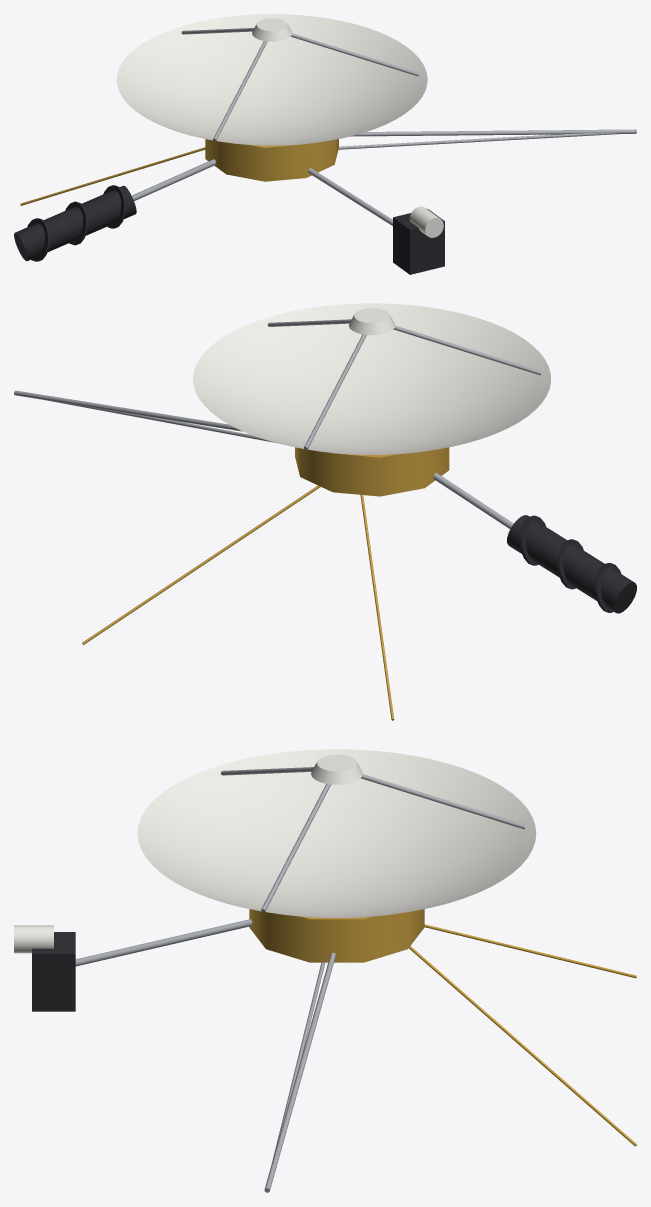
File: deep-space-probe.glb
3 renders of one model, top to bottom at view 1: azimuth 30°, elevation 25°; view 2: azimuth 150°, elevation 25°; view 3: azimuth 270°, elevation 25°, orthographic. The views are drawn at different scales.
Parts seen in each view (by area): view 1: part0, part5, part9, part14, part6, part7, part4, part15, part8, part13, part17, part1 (+1 smaller); view 2: part0, part5, part9, part6, part16, part4, part17, part2, part8, part7, part3; view 3: part0, part5, part14, part6, part13, part4, part16, part15, part3, part1, part17, part7.
Boxes of the visible parts, x1,y1,x2,y2 form: part0: (116,14,427,145); part5: (205,139,338,181); part9: (14,185,136,261); part14: (393,209,444,274); part6: (350,129,636,136); part7: (338,133,623,149); part4: (252,18,292,41); part15: (409,206,443,237); part8: (132,159,215,201); part13: (308,168,392,225); part17: (20,147,205,205); part1: (291,33,419,76); part0: (193,303,550,454); part5: (295,447,449,496); part9: (507,515,636,613); part6: (14,390,242,431); part16: (82,485,320,644); part4: (349,308,395,335); part17: (360,495,394,720); part2: (393,325,541,375); part8: (433,472,513,528); part7: (48,400,275,442); part3: (304,334,366,449); part0: (137,749,536,918); part5: (249,909,424,962); part14: (32,932,75,1011); part6: (264,952,335,1192); part13: (75,919,252,966); part4: (311,754,362,784); part16: (409,946,636,1146); part15: (14,925,53,953); part3: (361,774,525,829); part1: (261,784,330,912); part17: (424,924,636,978); part7: (265,962,325,1191).
Size of the model in its own units: 4.28 by 1.66 by 3.13.
